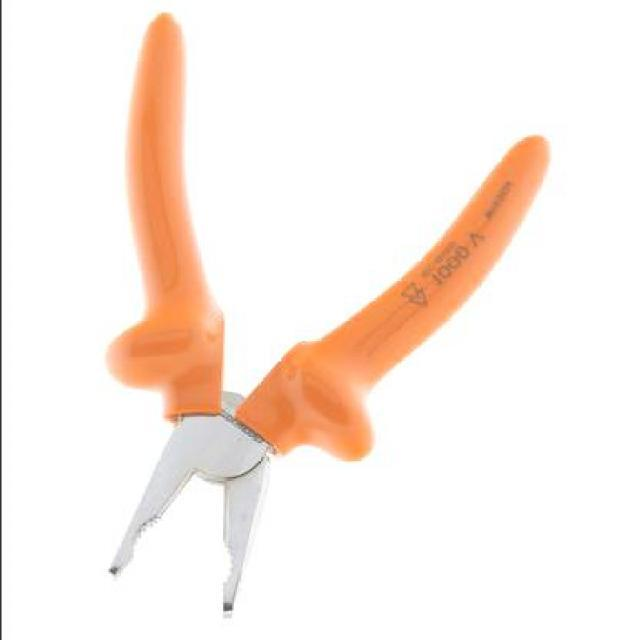pliers: (110, 7, 576, 624)
